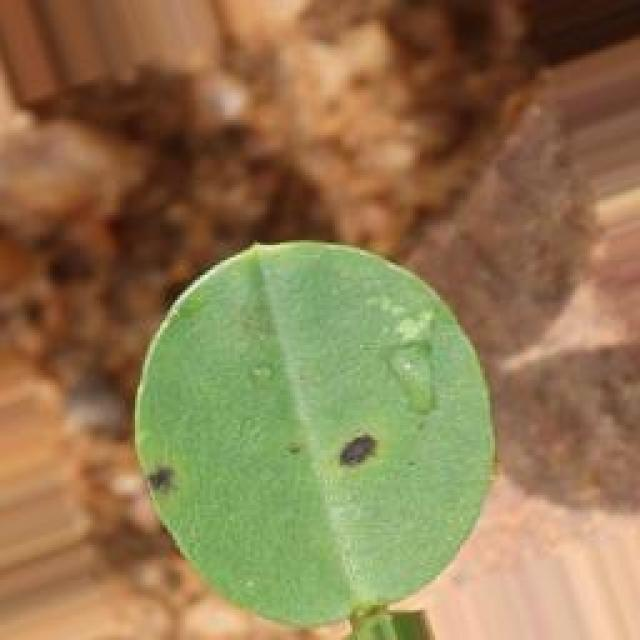Yellowish: (283, 352, 431, 546), (108, 419, 228, 543)
